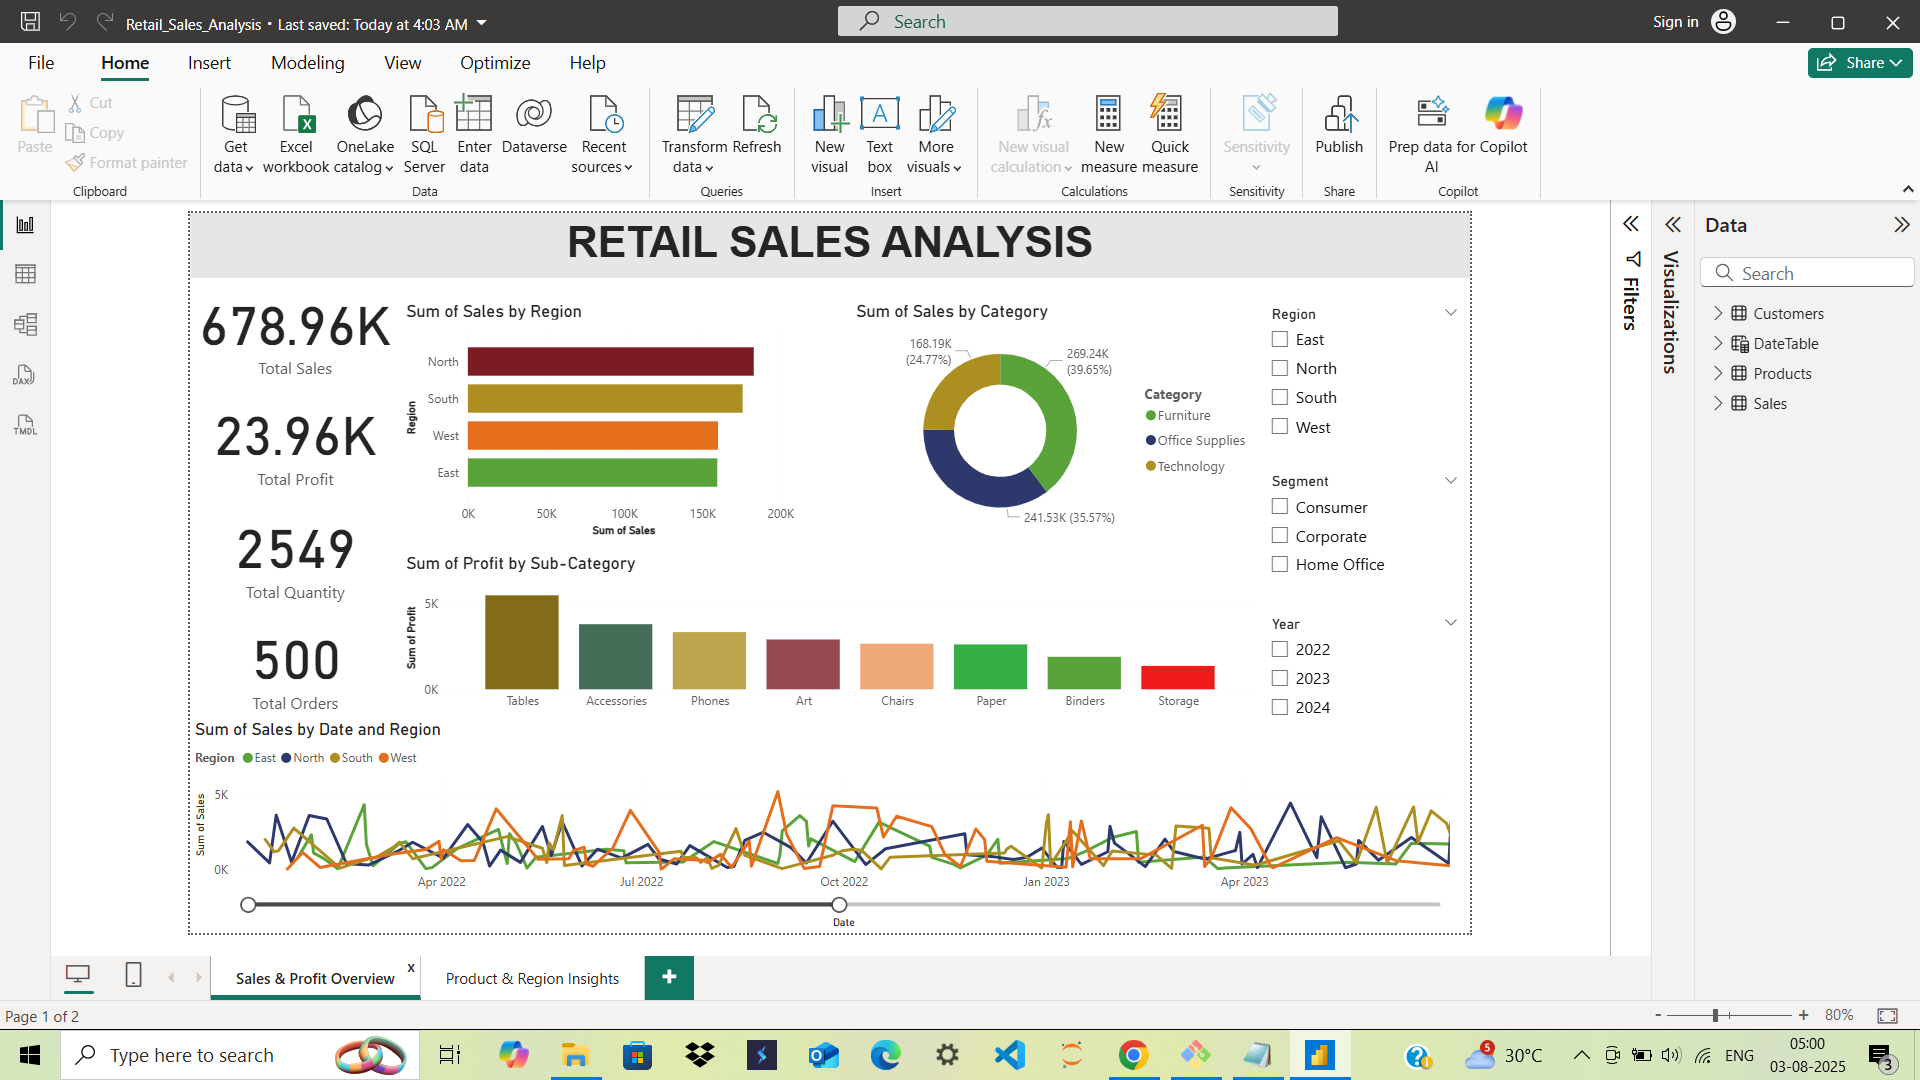

The page's visual inventory and layout, read from the dashboard file:
{"tool":"powerbi","page":{"name":"Sales & Profit Overview","canvas":[1280,720],"ordinal":0},"visuals":[{"type":"card","fields":{"Values":["Sum(Sales.Sales)"]},"box":[0,64.3,210.7,106],"z":0},{"type":"card","fields":{"Values":["Sum(Sales.Profit)"]},"box":[0,170.2,211.3,113.9],"z":1000},{"type":"card","fields":{"Values":["Sum(Sales.Quantity)"]},"box":[0,284,211.3,112.5],"z":2000},{"type":"card","fields":{"Values":["Count(Sales.Order ID)"]},"box":[0,396.6,211.3,109.8],"z":3000},{"type":"slicer","fields":{"Values":["Sales.Region"]},"box":[1069,87.8,211.3,166],"z":4000},{"type":"slicer","fields":{"Values":["Customers.Segment"]},"box":[1068.9,254.6,211.1,149.6],"z":5000},{"type":"barChart","fields":{"Category":["Sales.Region"],"Y":["Sum(Sales.Sales)"]},"box":[211.1,88.1,398.1,241.3],"z":6000},{"type":"lineChart","fields":{"Category":["DateTable.Date"],"Y":["Sum(Sales.Sales)"],"Series":["Sales.Region"]},"box":[0,506.7,1280,213.5],"z":7000},{"type":"donutChart","fields":{"Category":["Sales.Category"],"Y":["Sum(Sales.Sales)"]},"box":[660.7,88.1,408.3,241.7],"z":8000},{"type":"textbox","box":[0,0,1280.3,64.5],"z":9000},{"type":"slicer","fields":{"Values":["DateTable.Year"]},"box":[1068.9,396.9,211.1,150.8],"z":10000},{"type":"clusteredColumnChart","fields":{"Y":["Sum(Sales.Profit)"],"Category":["Sales.Sub-Category"]},"box":[211.1,340.2,857.8,166.5],"z":11000}]}

Visuals, with their boxes on the page's 1280x720 design canvas (x1, y1, x2, y2). These are canvas units, not pixel positions in the 1920x1080 screenshot, which may show the page scaled, cropped or inside an application window:
card - Sum(Sales.Sales): 0:64:211:170
card - Sum(Sales.Profit): 0:170:211:284
card - Sum(Sales.Quantity): 0:284:211:396
card - Count(Sales.Order ID): 0:397:211:506
slicer - Sales.Region: 1069:88:1280:254
slicer - Customers.Segment: 1069:255:1280:404
barChart - Sales.Region x Sum(Sales.Sales): 211:88:609:329
lineChart - DateTable.Date x Sum(Sales.Sales): 0:507:1280:720
donutChart - Sales.Category x Sum(Sales.Sales): 661:88:1069:330
textbox: 0:0:1280:64
slicer - DateTable.Year: 1069:397:1280:548
clusteredColumnChart - Sum(Sales.Profit) x Sales.Sub-Category: 211:340:1069:507
